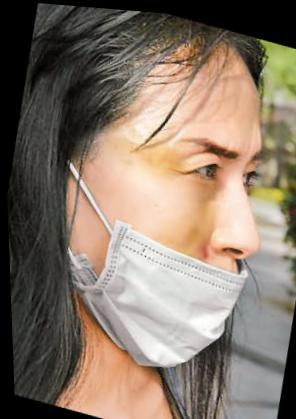WRONG: (49, 58, 289, 378)
